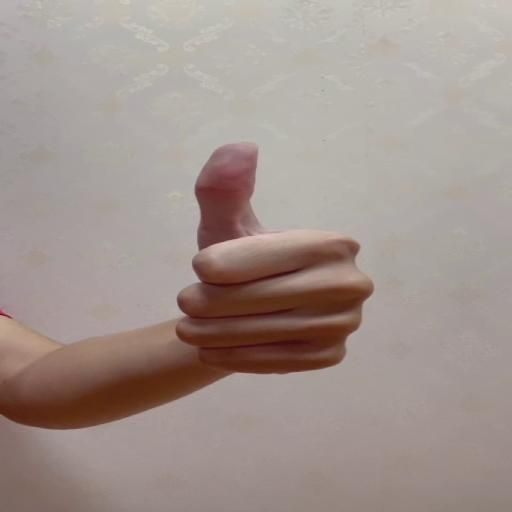thumbs_up: (171, 140, 377, 374)
